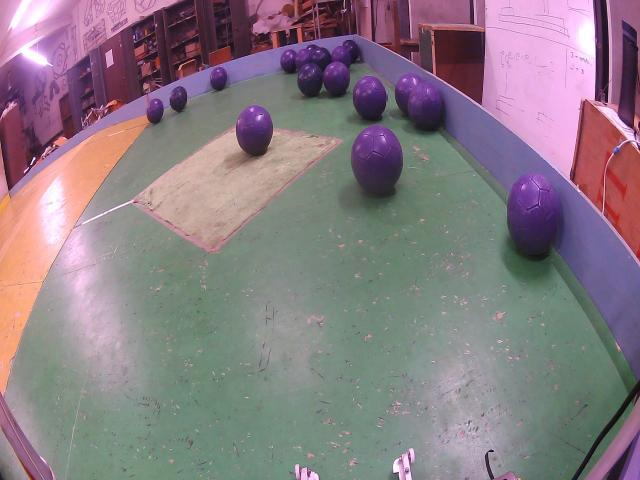jambhalya: (507, 174, 559, 255), (352, 125, 402, 195), (236, 105, 274, 155), (407, 82, 443, 129), (353, 75, 387, 120), (395, 73, 422, 115), (323, 61, 350, 96), (332, 45, 352, 68), (146, 99, 164, 123), (211, 67, 228, 90), (280, 49, 296, 73), (295, 48, 311, 70)
kaalyya: (298, 63, 322, 97), (312, 48, 331, 72), (170, 86, 188, 111), (344, 40, 359, 63), (307, 43, 318, 52)
